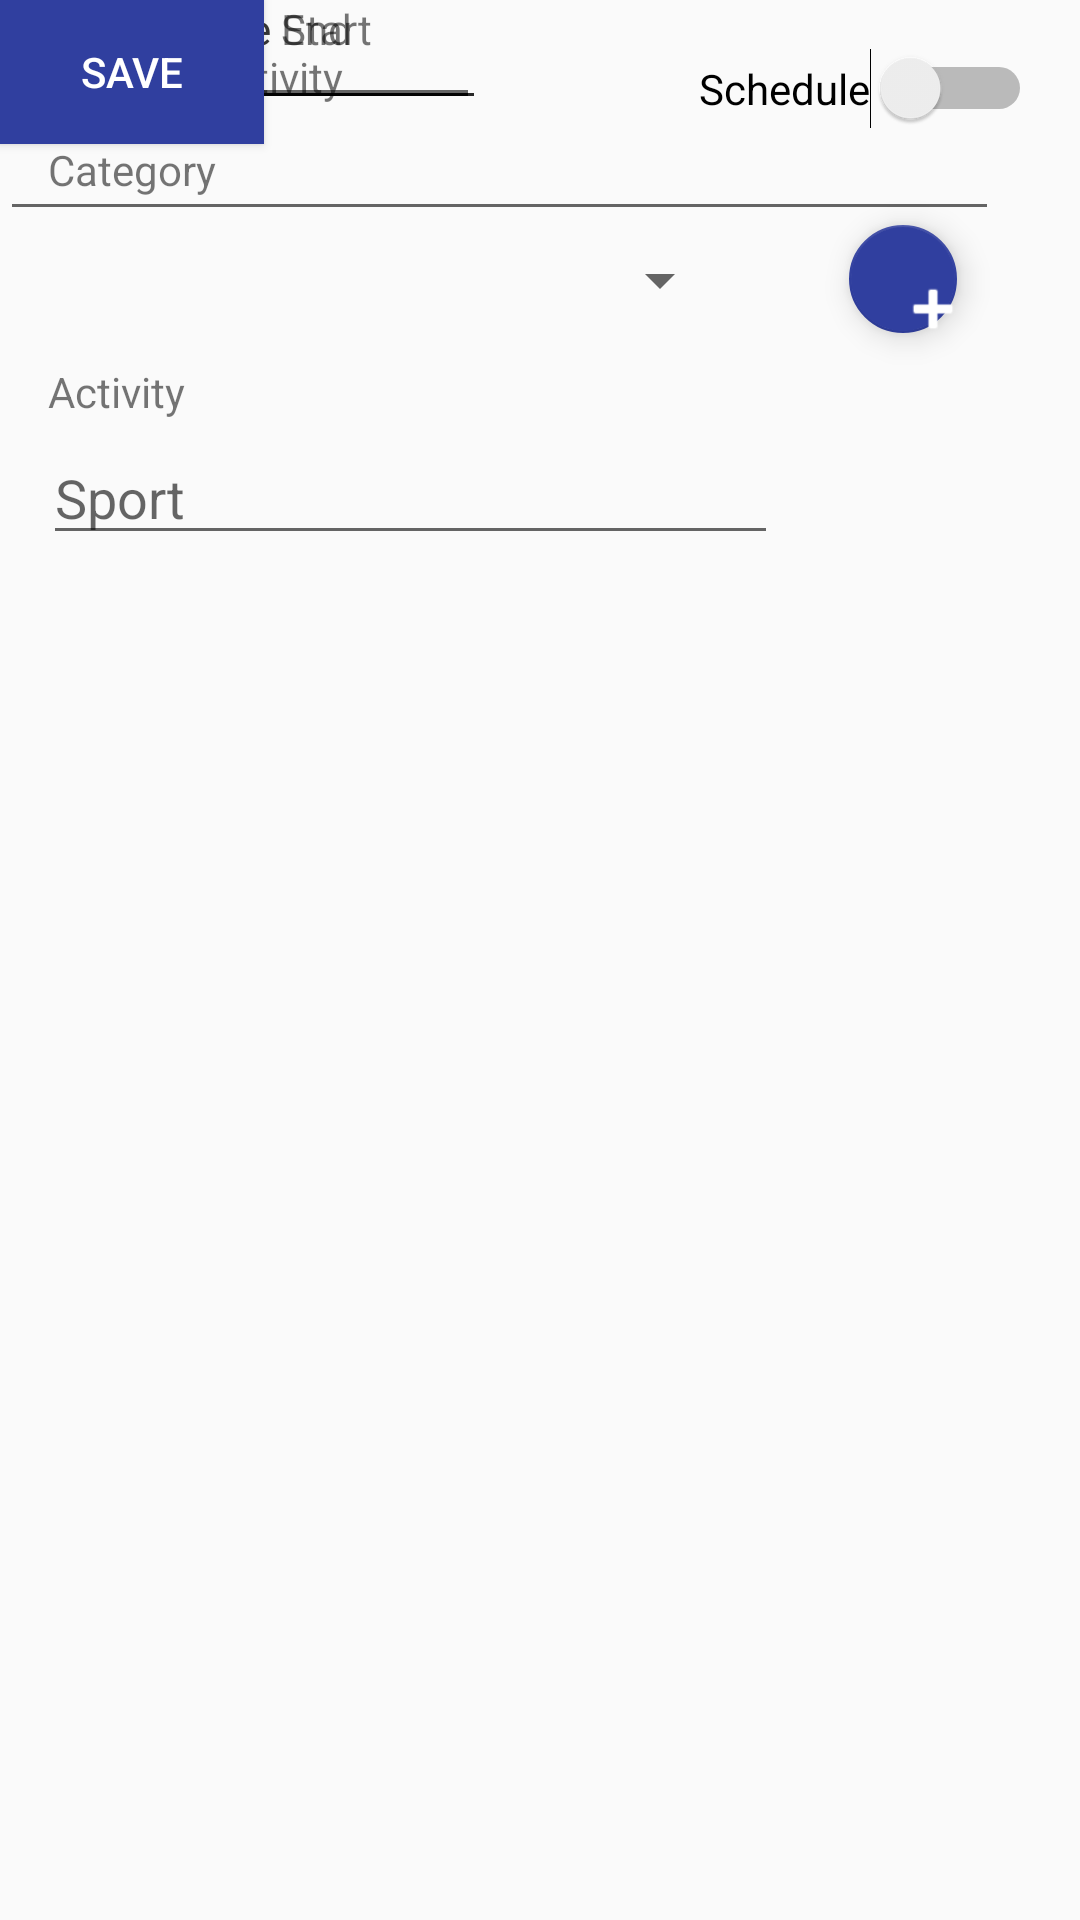

Screen size 1080 x 1920. Icon name, then its center in pixels as (x=x, y=y):
add: (x=903, y=279)
